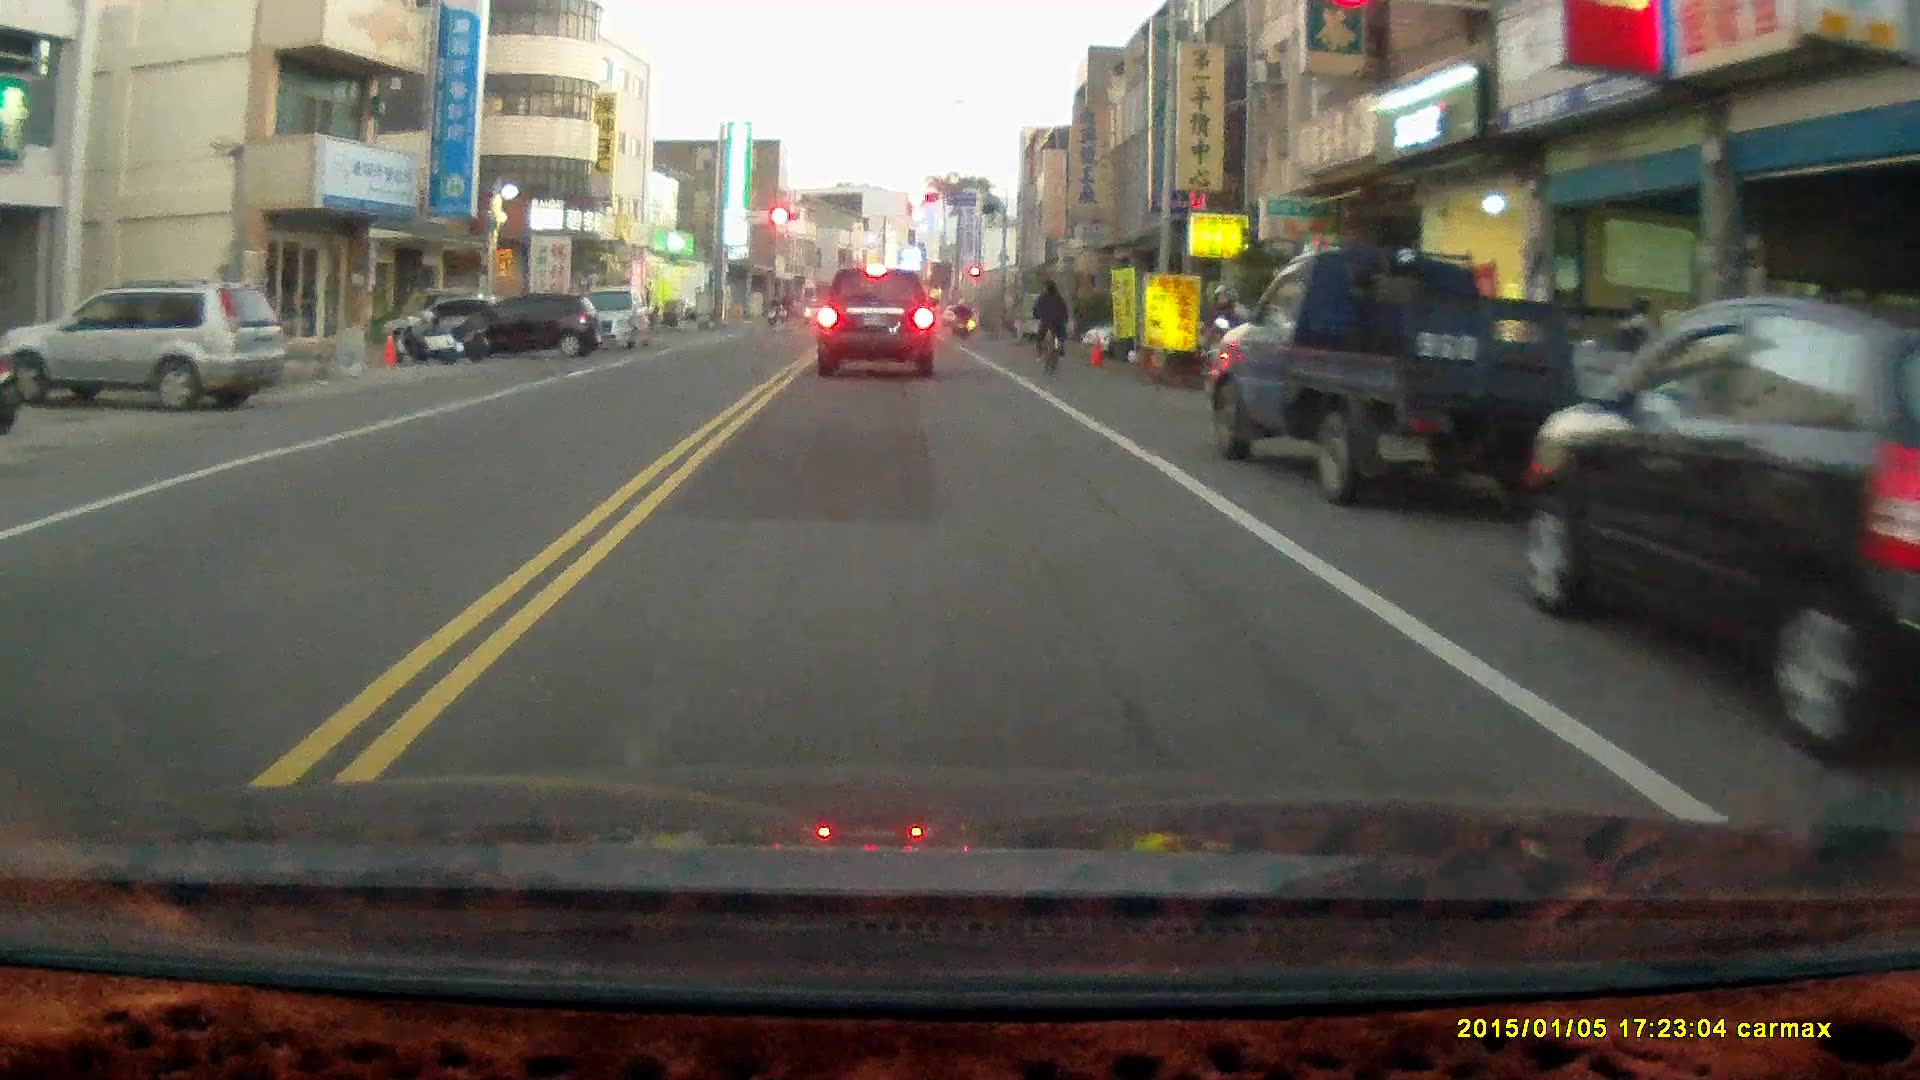pedestrian: (1202, 281, 1241, 400)
rider: (1031, 279, 1070, 380)
vehicle: (1530, 298, 1920, 726), (1198, 244, 1650, 506), (5, 279, 291, 411), (818, 270, 941, 379), (449, 294, 607, 358), (551, 284, 652, 351)
